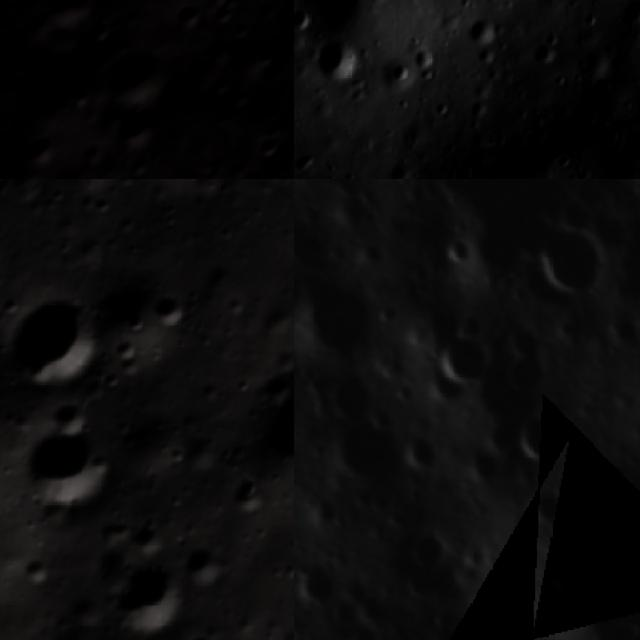crater: (0, 280, 116, 398), (20, 421, 123, 525), (316, 373, 396, 482), (94, 36, 184, 124), (110, 559, 199, 640), (528, 224, 604, 298), (103, 94, 172, 166), (497, 326, 544, 392), (308, 36, 360, 87), (180, 549, 231, 597), (436, 338, 485, 387), (520, 413, 561, 468), (396, 531, 451, 570), (95, 511, 139, 557), (460, 12, 502, 54), (202, 0, 250, 35), (165, 0, 210, 34), (151, 296, 189, 334), (230, 478, 267, 516), (554, 558, 588, 598), (440, 232, 472, 272), (22, 553, 56, 587), (615, 0, 640, 33), (186, 630, 225, 640)
